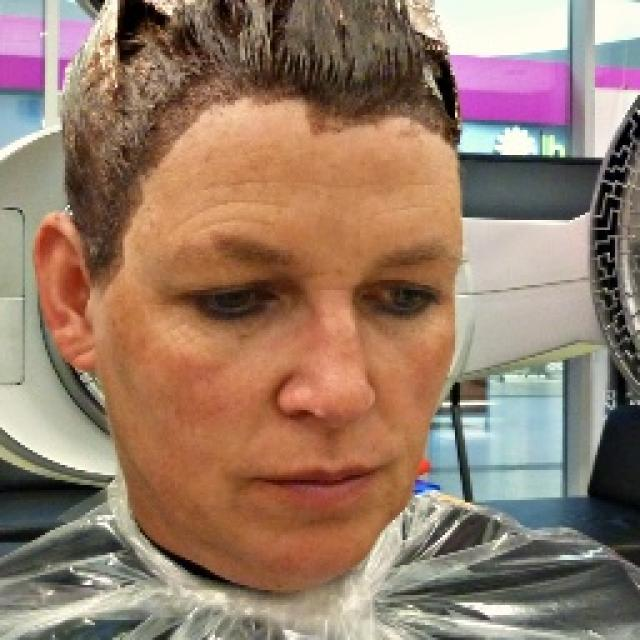earlobe: (54, 328, 105, 370)
eye: (185, 274, 274, 318), (359, 276, 441, 317)
nose: (282, 404, 370, 459)
wholeear: (34, 211, 106, 370)
